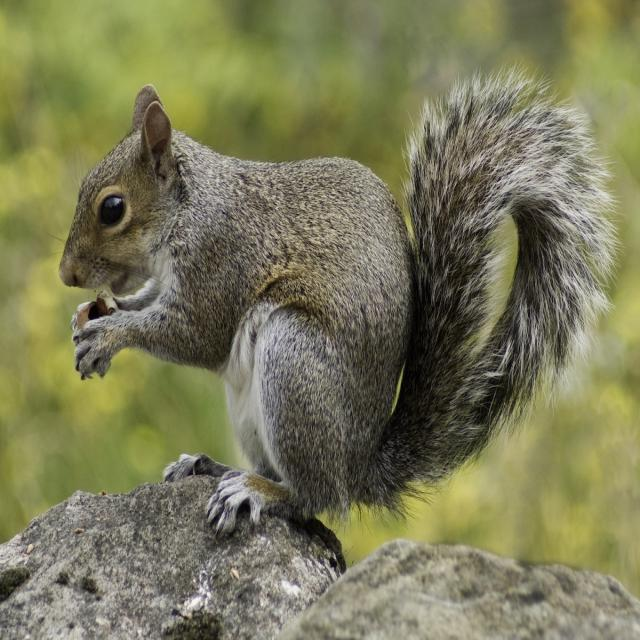Squirrel: (65, 68, 616, 556)
